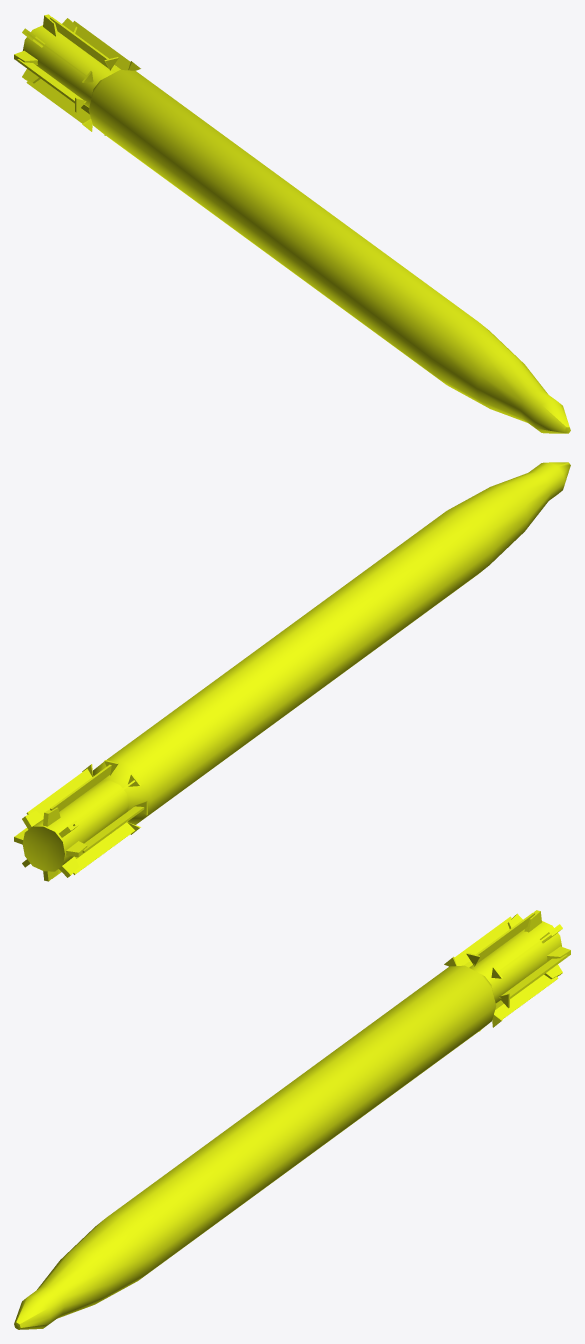
3 views of the same model, one above another, from view 1: azimuth 30°, elevation 25°; view 2: azimuth 150°, elevation 25°; view 3: azimuth 330°, elevation 25° (orthographic).
Parts seen in each view (by area): view 1: R4M Mesh; view 2: R4M Mesh; view 3: R4M Mesh.
Boxes of the visible parts, <box> form: R4M Mesh: <box>14,14,570,433</box>; R4M Mesh: <box>14,462,570,881</box>; R4M Mesh: <box>14,910,570,1329</box>.
Bounding box in the file's own units: 6.4 × 6.4 × 81.2.
